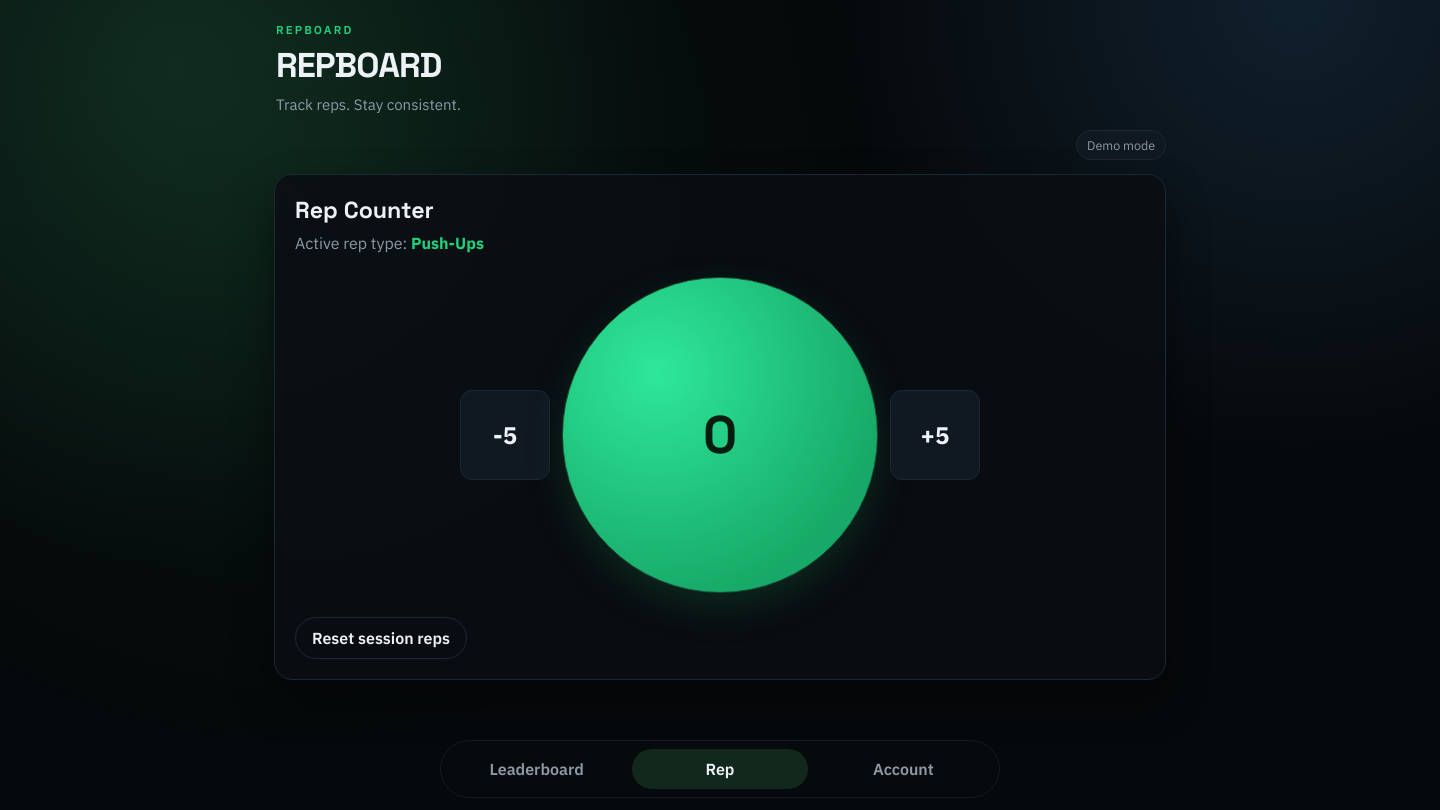
Test: Leaderboard page › loads athletes and opens public profile modal
The width and height of the screenshot is (1440, 810).
Click the button "Leaderboard": [537, 769] box [449, 749, 624, 789]
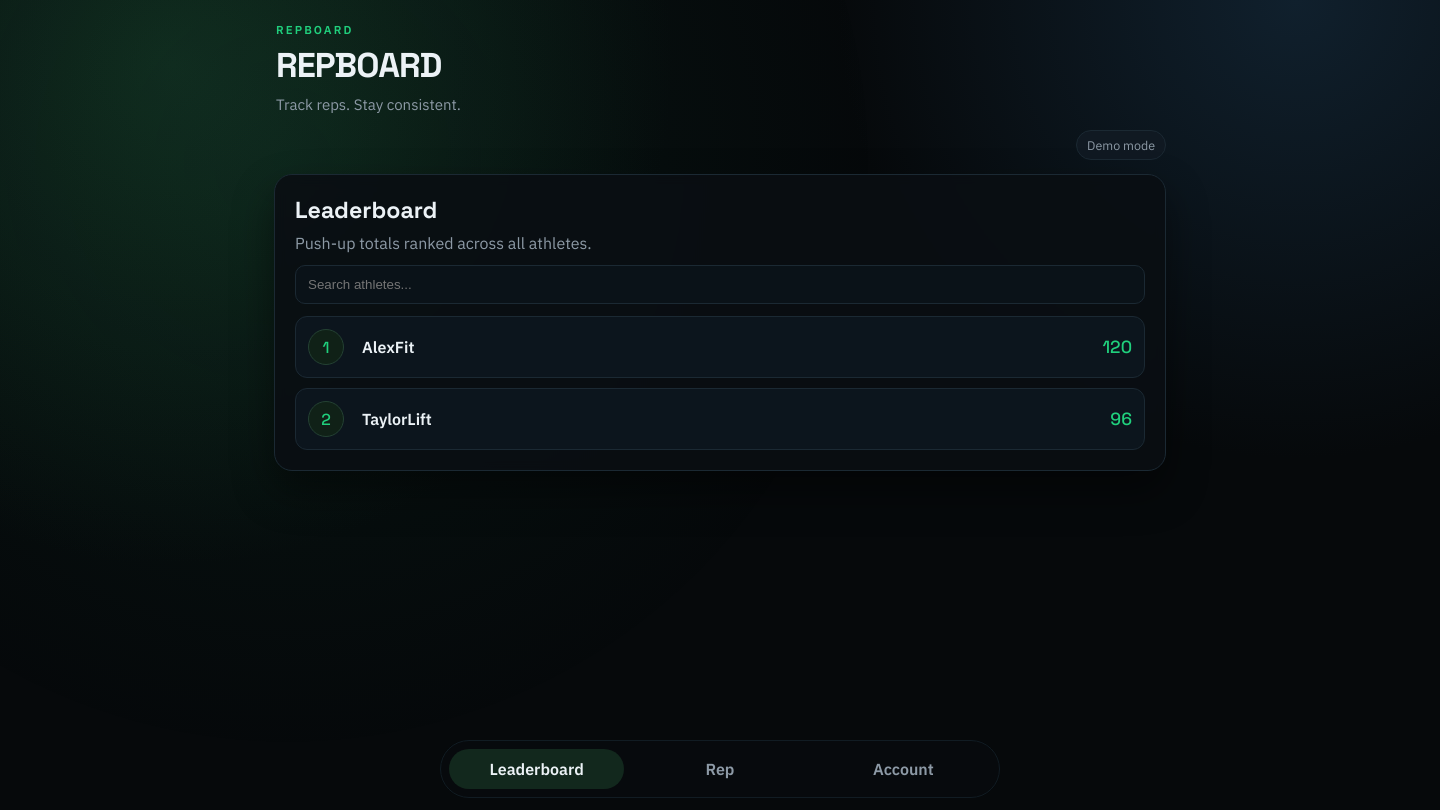
Check: the text "AlexFit" is shown, box [362, 337, 414, 357]
Check: the text "TaylorLift" is shown, box [362, 409, 432, 429]
Click the button with aria-label "Open AlexFit profile": [326, 347] box [295, 316, 1145, 378]
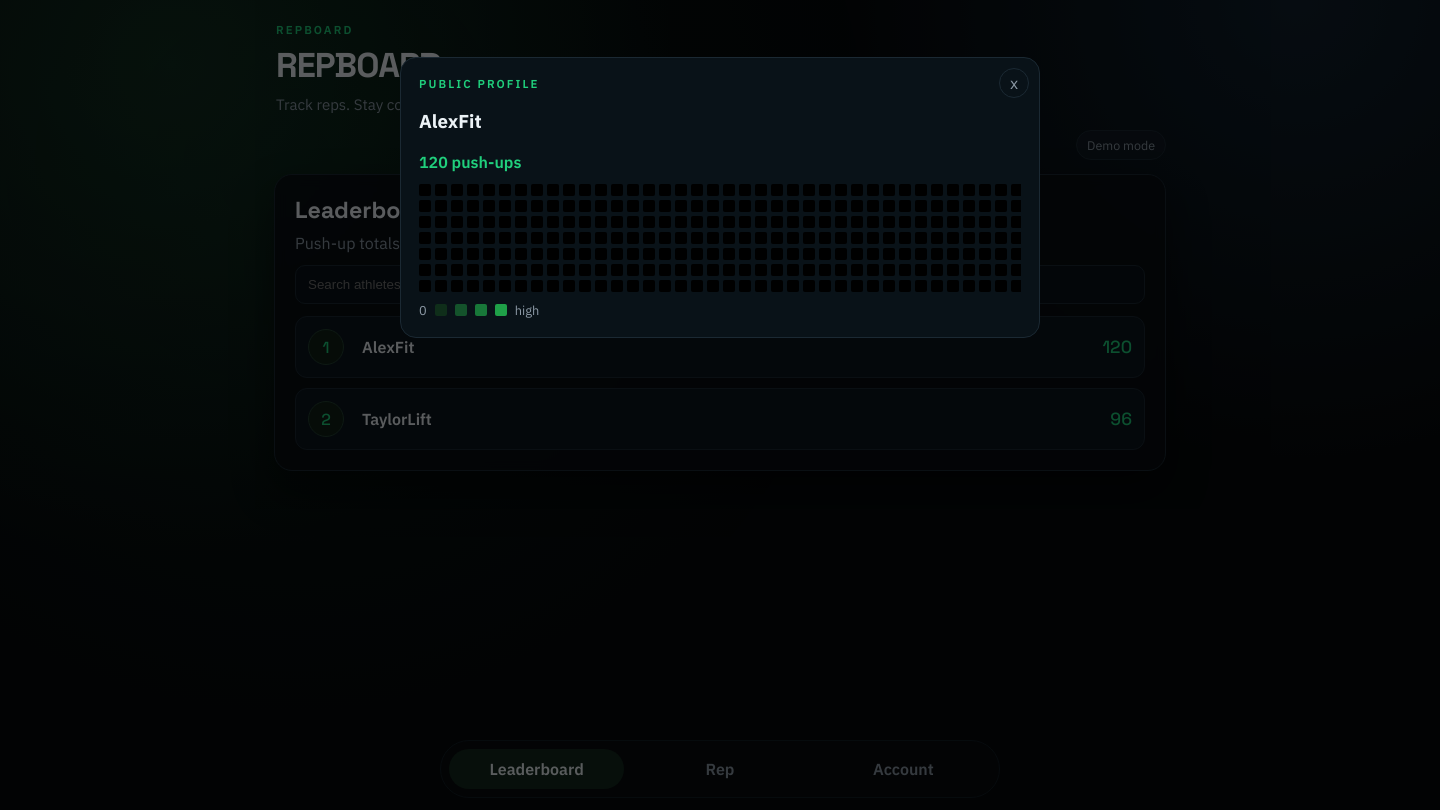
Check: the text "Public profile" is shown, box [419, 76, 540, 90]
Check: the text "120 push-ups" is shown, box [419, 152, 521, 172]
